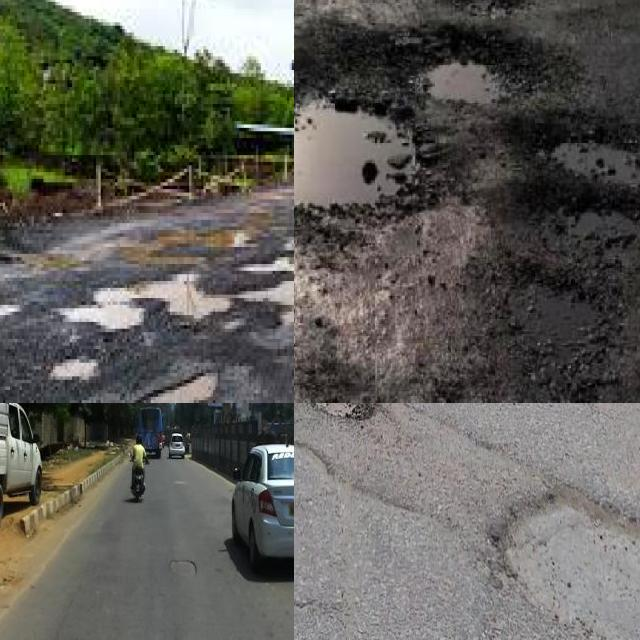Pothole: (495, 475, 640, 640), (63, 237, 294, 329), (294, 99, 419, 211), (144, 199, 270, 257), (546, 131, 640, 202), (419, 62, 516, 107), (437, 0, 528, 24), (147, 373, 215, 403), (306, 403, 375, 424), (51, 359, 96, 383), (171, 560, 196, 575)
